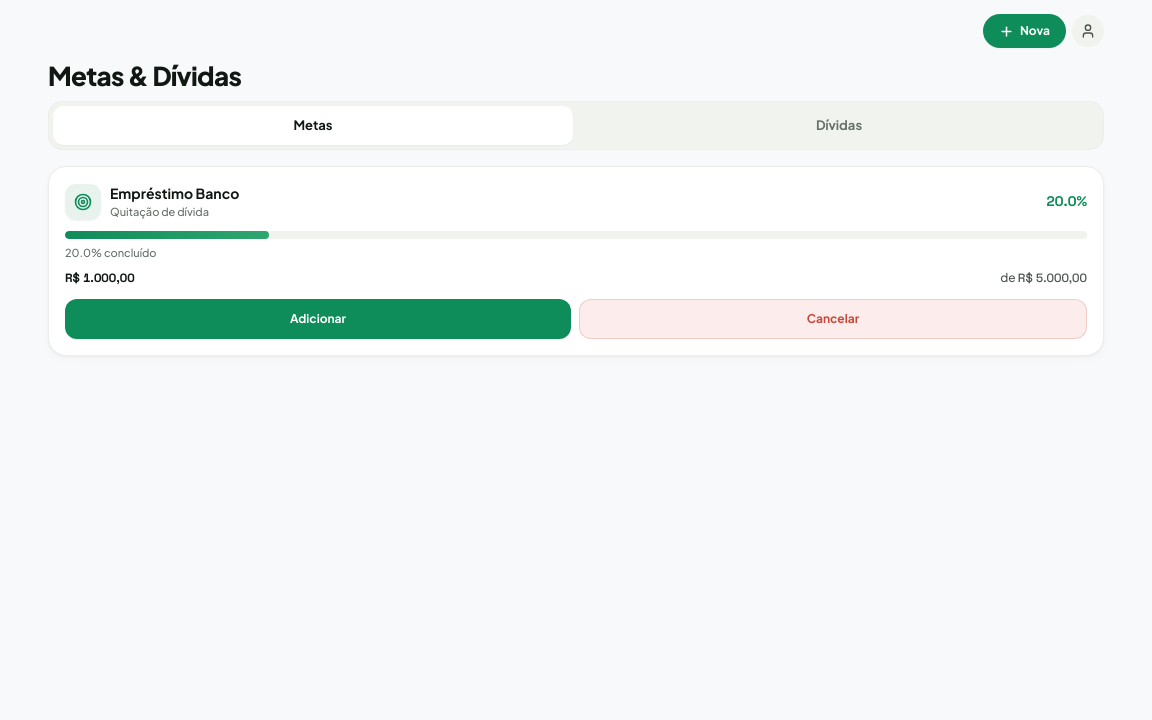
Test: GoalsPage › debt goals appear in Dívidas tab › debt-goal card in Dívidas tab is clickable and opens detail
The image size is (1152, 720).
What coordinates should you click on to do the following:
click the button "Dívidas"
I would click on:
 (839, 125)
Its box is [579,106,1099,145].
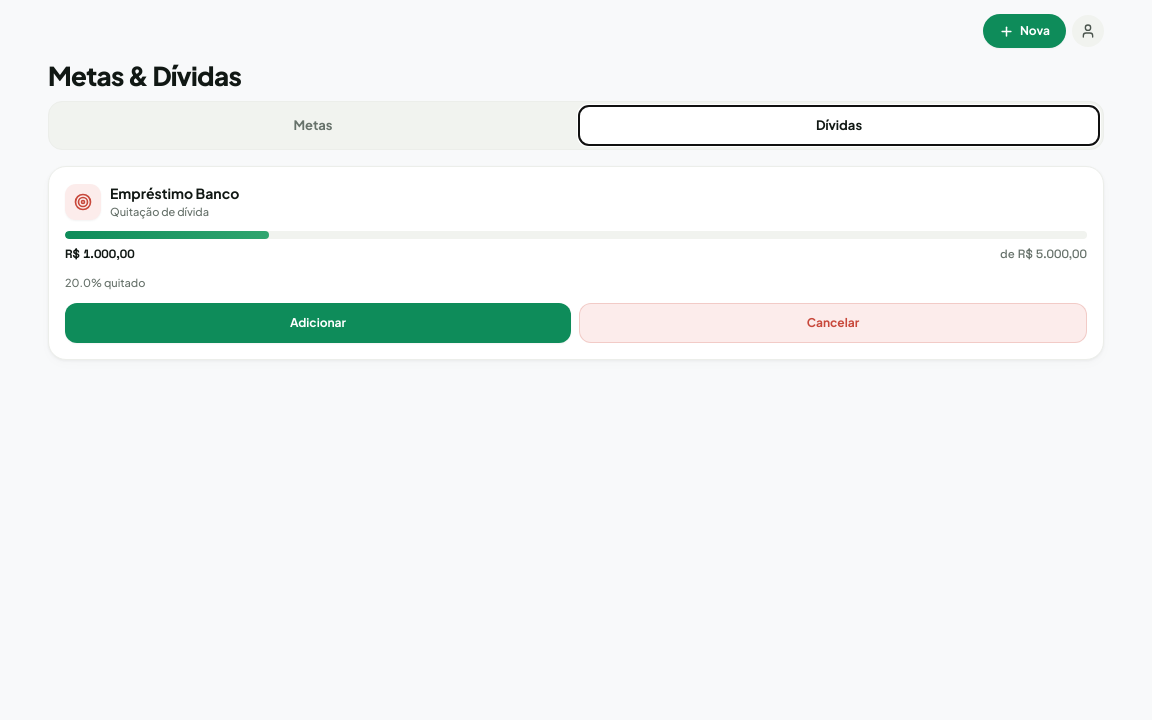
What coordinates should you click on to do the following:
click the text "Empréstimo Banco"
I would click on:
 (175, 194)
Its box is [110,183,239,204].
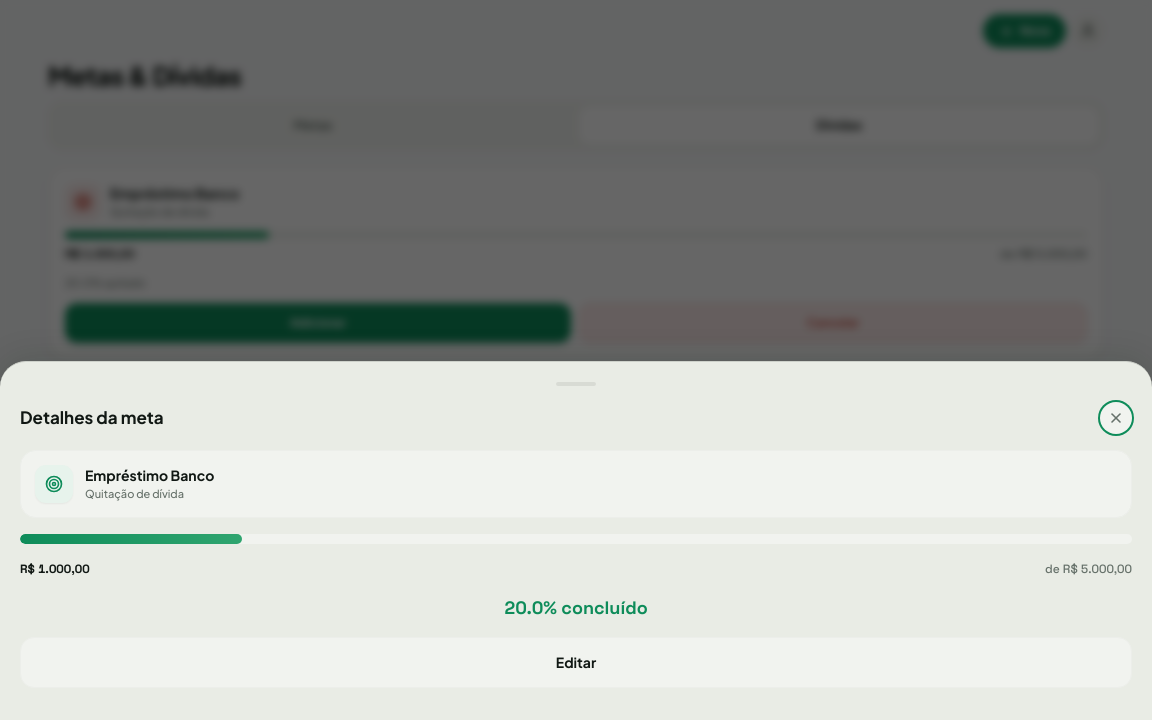
Expected: the button "Editar" is shown, [20,637,1132,688]
